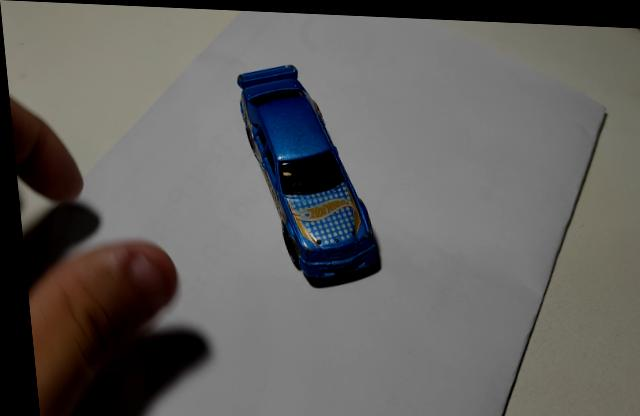04_MERZEDES: (234, 63, 379, 285)
